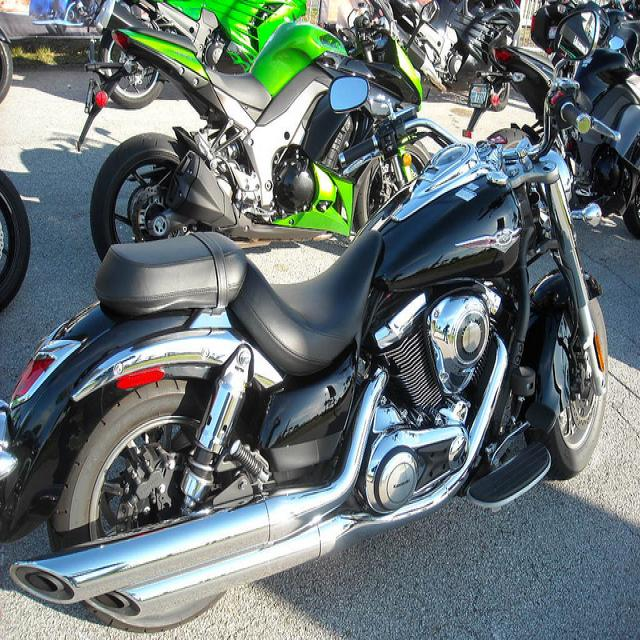motor: (1, 9, 625, 628), (93, 11, 423, 263), (93, 3, 375, 110), (566, 47, 640, 240), (376, 0, 523, 87), (1, 168, 31, 318), (0, 20, 17, 104)
